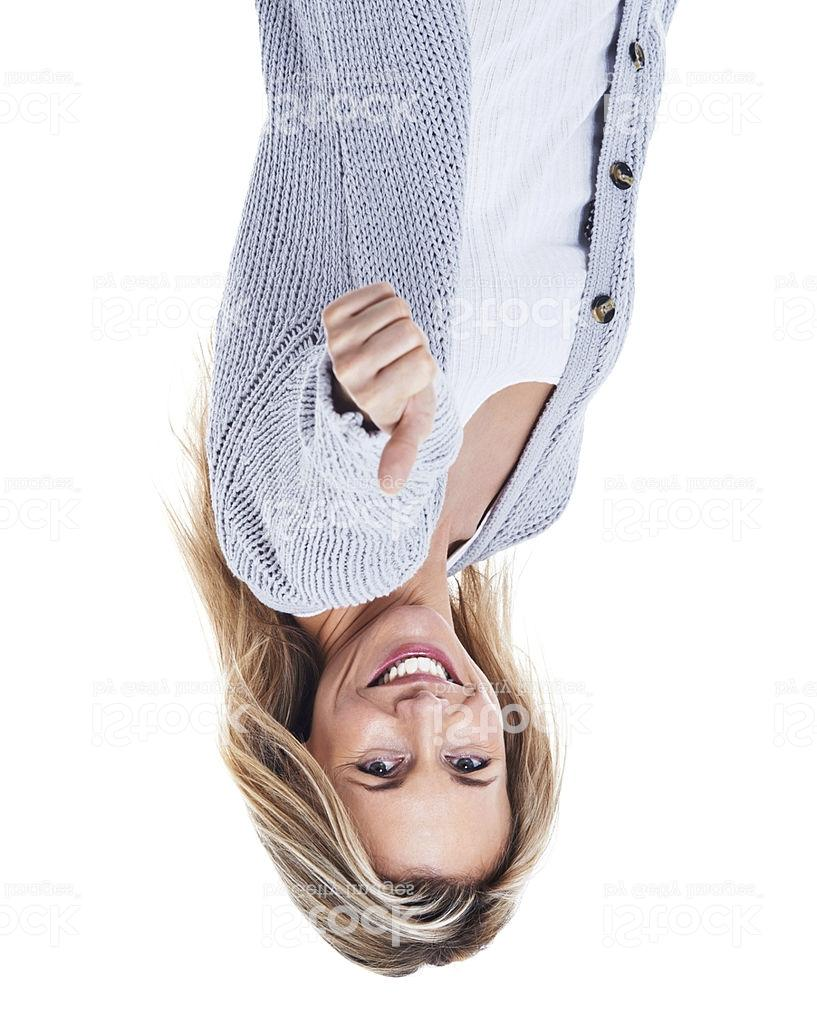thumbsdown: (319, 280, 439, 496)
